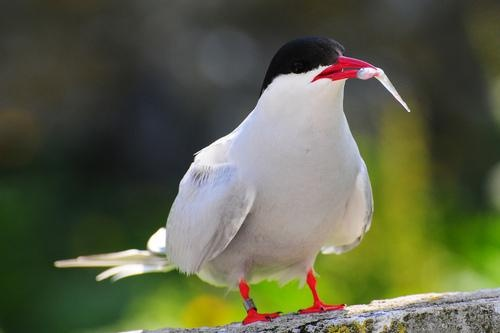bird: (49, 33, 379, 324)
